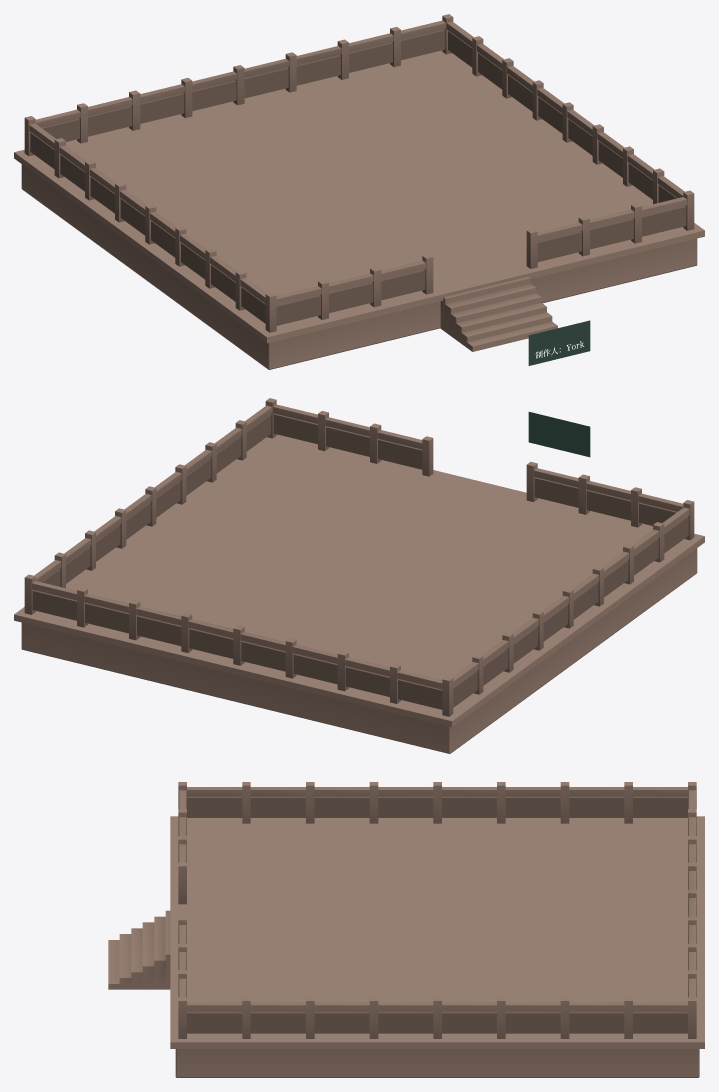
Rendered from floor-0-high.glb.
3 views of the same model, one above another, from view 1: azimuth 30°, elevation 25°; view 2: azimuth 150°, elevation 25°; view 3: azimuth 270°, elevation 25° (orthographic). The views are drawn at different scales.
Visible parts, largest first — view 1: L0_Foundation_D, L0_TerraceAndStairs_C, L0_TerraceAndStairs_D, 制作人：York; view 2: L0_Foundation_D, L0_TerraceAndStairs_C, 制作人：York; view 3: L0_Foundation_D, L0_TerraceAndStairs_C, L0_TerraceAndStairs_D.
Boxes of the visible parts, x1=… form: L0_Foundation_D: x1=14, y1=50, x2=704, y2=369; L0_TerraceAndStairs_C: x1=24, y1=14, x2=694, y2=332; L0_TerraceAndStairs_D: x1=440, y1=276, x2=557, y2=351; 制作人：York: x1=528, y1=320, x2=590, y2=365; L0_Foundation_D: x1=14, y1=434, x2=704, y2=753; L0_TerraceAndStairs_C: x1=24, y1=398, x2=694, y2=716; 制作人：York: x1=528, y1=412, x2=590, y2=457; L0_Foundation_D: x1=170, y1=816, x2=704, y2=1077; L0_TerraceAndStairs_C: x1=178, y1=782, x2=696, y2=1038; L0_TerraceAndStairs_D: x1=108, y1=910, x2=170, y2=989.
Size of the model in its own units: 14.9 by 2.35 by 19.25.
